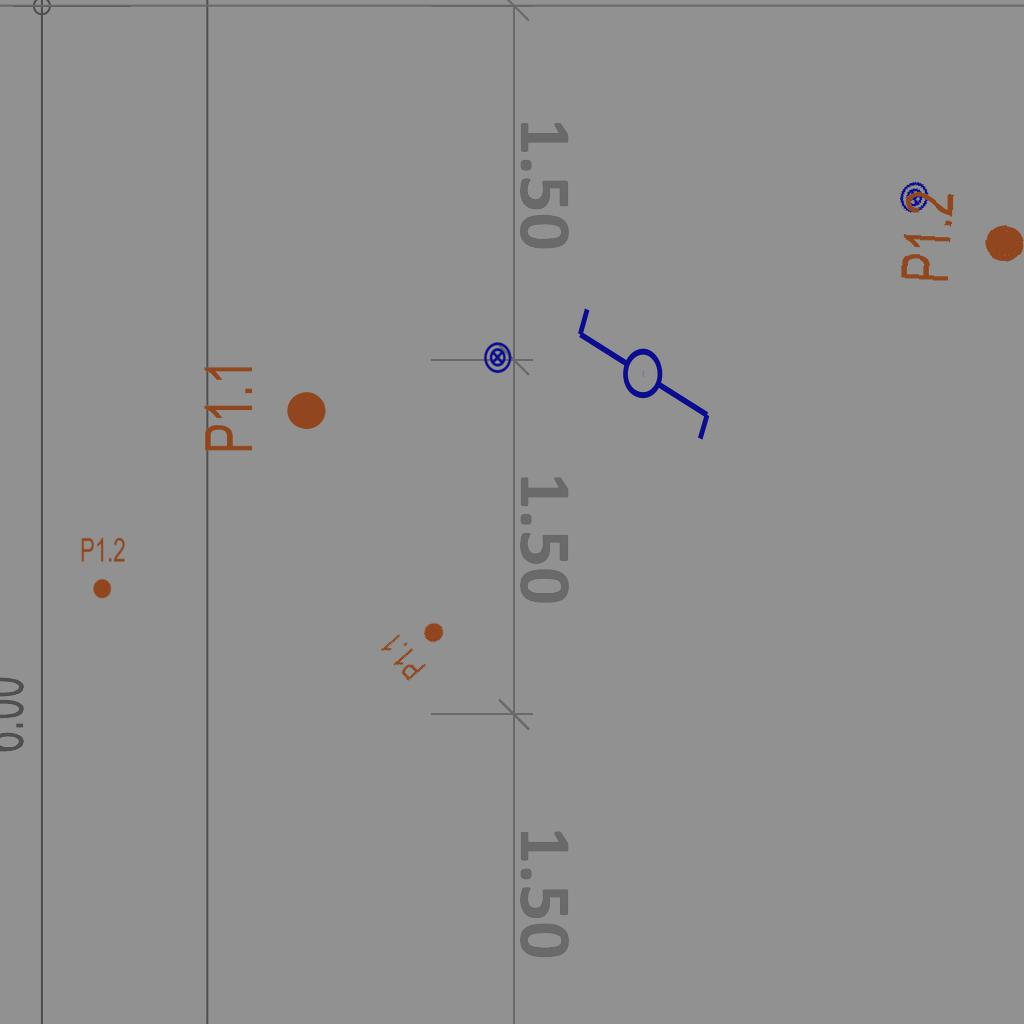Downlight_LED_Einbauleuchten_Flur: (896, 188, 1024, 290), (201, 361, 329, 454), (377, 606, 457, 684), (80, 536, 126, 600)
Taster_beleuchtet: (892, 175, 937, 220), (481, 341, 514, 374)
Wechselschalter: (573, 287, 717, 444)
